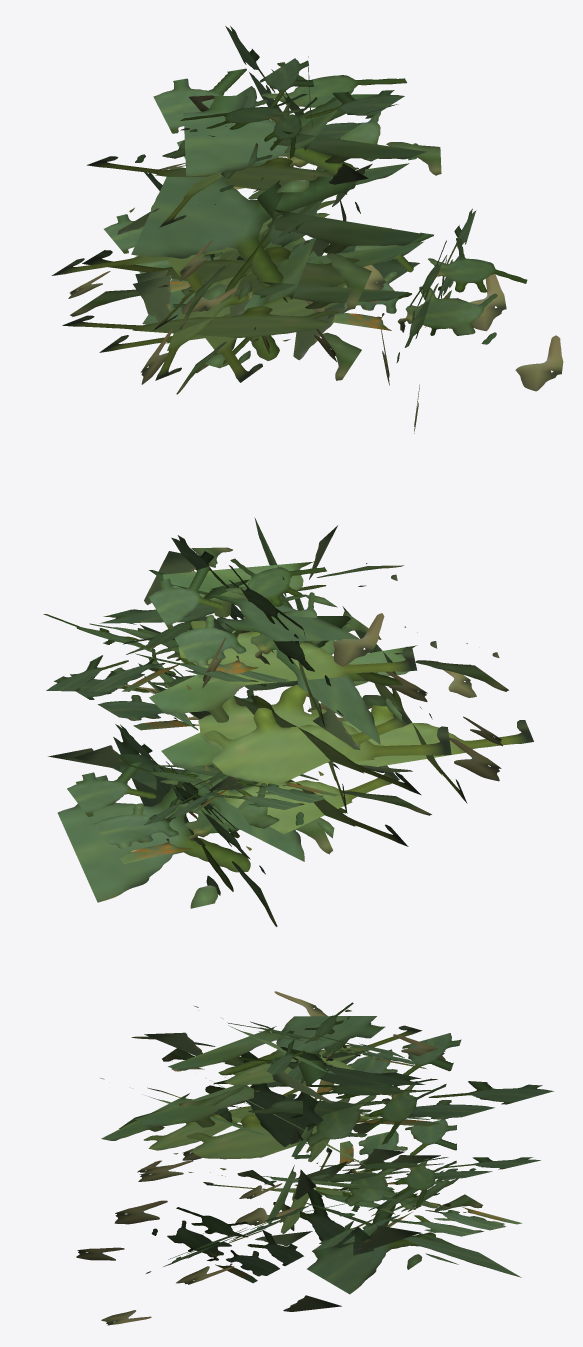
Rendered from hosta-clump-lod1.glb.
3 renders of one model, top to bottom at view 1: azimuth 30°, elevation 25°; view 2: azimuth 150°, elevation 25°; view 3: azimuth 270°, elevation 25°, orthographic. The views are drawn at different scales.
Visible parts, largest first — view 1: foliage; view 2: foliage; view 3: foliage.
Part boxes in pixels (<box>): foliage: <box>51,26,563,433</box>; foliage: <box>43,517,533,926</box>; foliage: <box>76,991,553,1325</box>.
Bounding box in the file's own units: 1.37 × 0.7153 × 1.41.
Materials: 1 (1 with a texture image).
